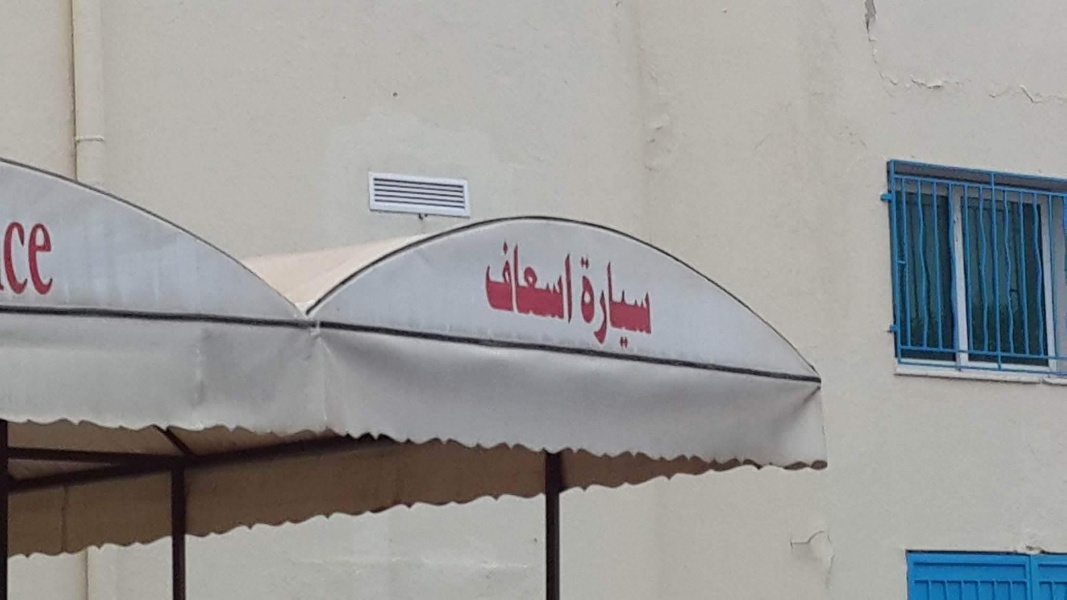text: (593, 255, 608, 355), (609, 255, 624, 355), (625, 255, 640, 355), (641, 255, 656, 355), (497, 237, 512, 326), (513, 237, 528, 326), (529, 237, 544, 326), (545, 237, 560, 326), (579, 255, 592, 355), (561, 237, 575, 326), (17, 218, 32, 296), (33, 218, 48, 296), (483, 237, 496, 326), (2, 218, 16, 296), (49, 218, 55, 296)
